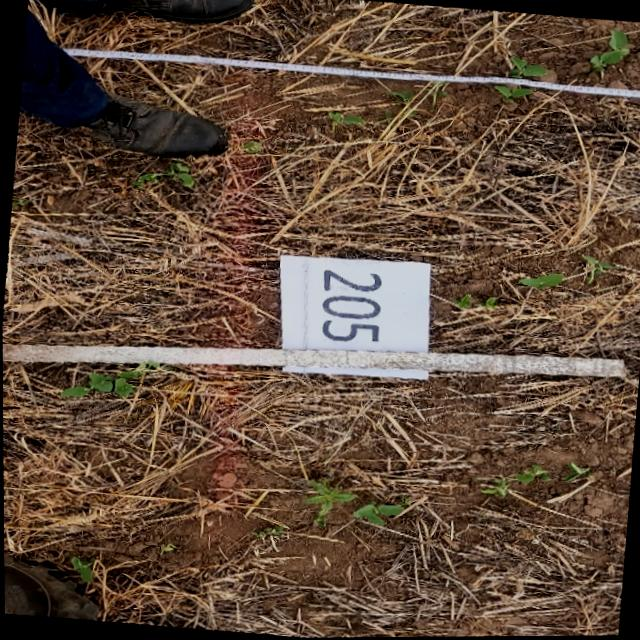caruru_weed: (304, 479, 354, 523)
soy_plant: (480, 464, 548, 498), (59, 371, 139, 397), (130, 161, 193, 188), (589, 30, 628, 73), (351, 501, 402, 526), (508, 56, 546, 79), (581, 256, 611, 285), (517, 274, 562, 291), (494, 85, 531, 104), (452, 295, 494, 311), (327, 112, 363, 130), (69, 556, 91, 582), (238, 140, 262, 154)
